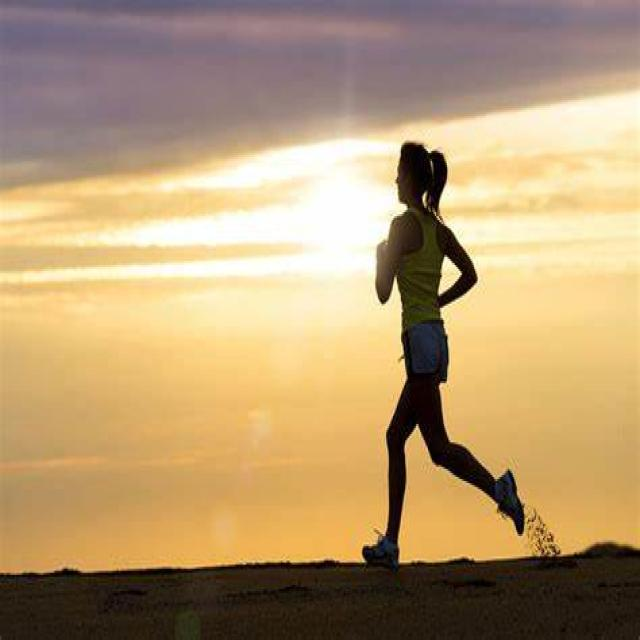stand: (374, 102, 454, 556)
